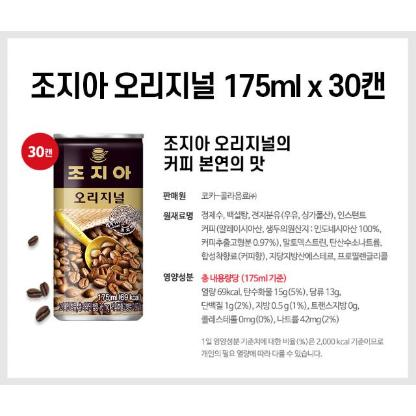Can: (57, 136, 146, 323)
